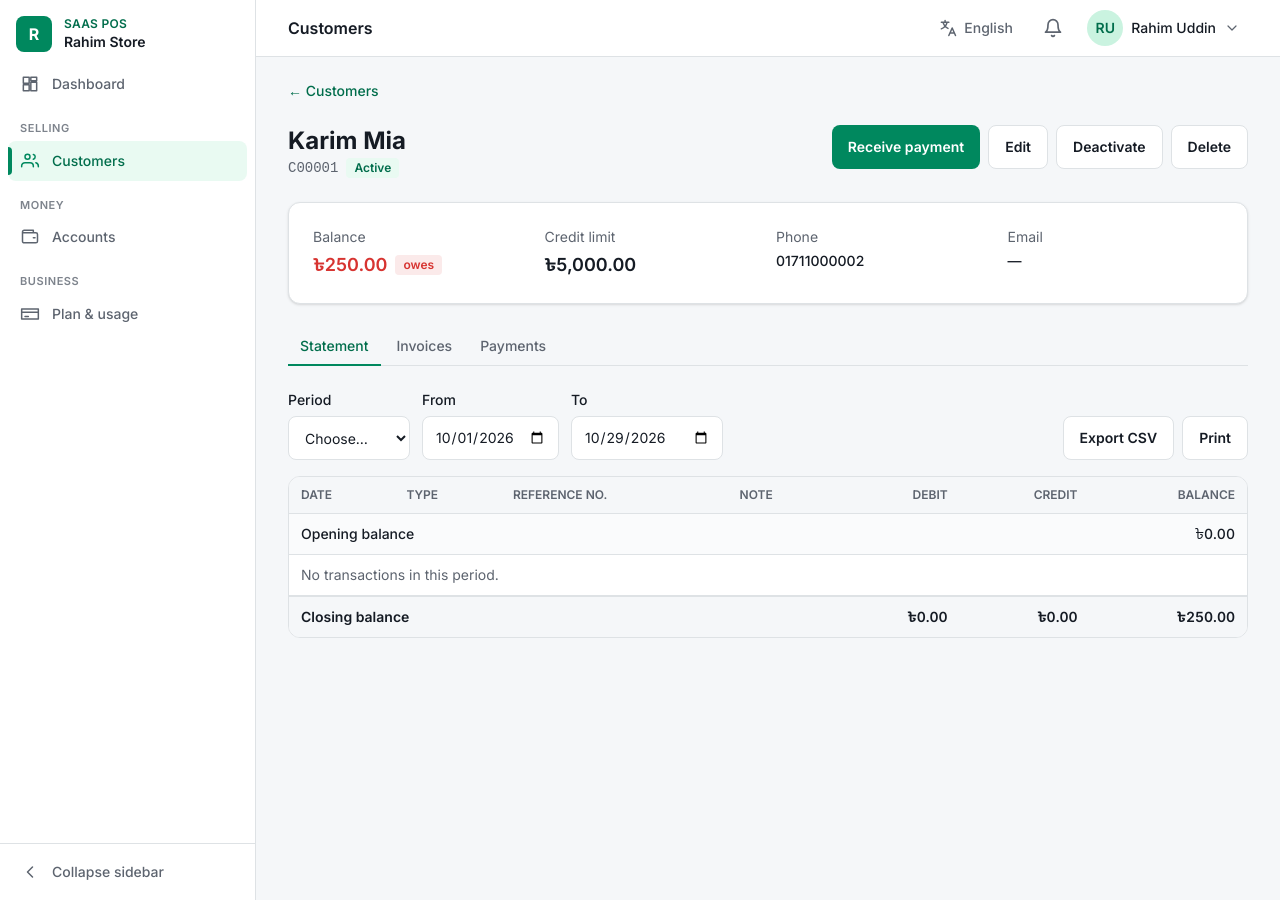
Test case: customers › receives a payment through /collections
The width and height of the screenshot is (1280, 900).
Click the button "Receive payment" at (906, 147), box [832,125,980,169]
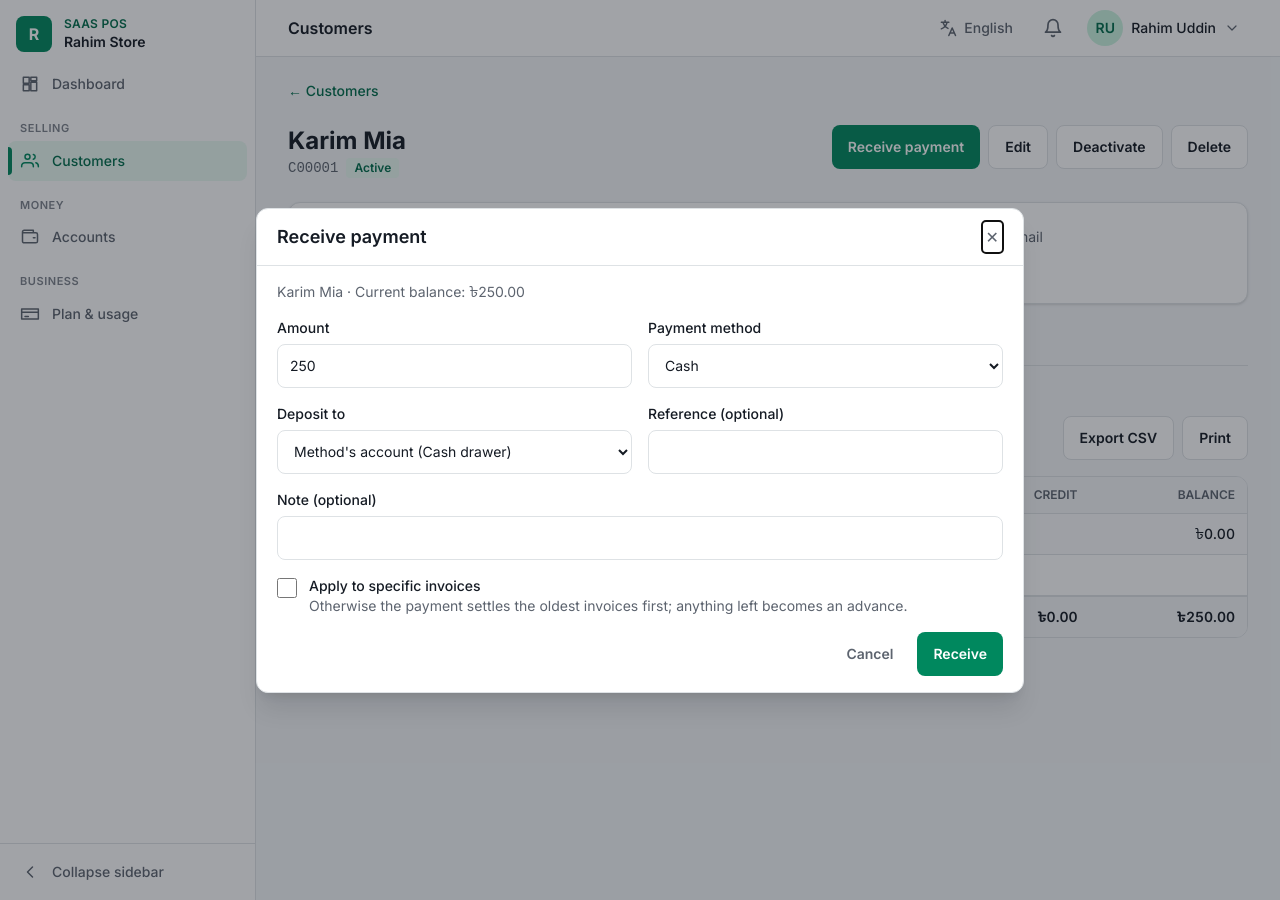
Expected: the field labelled "Amount" holds "250", [277,344,632,388]
Click the button "Receive" at (960, 654), box [917,632,1003,676]
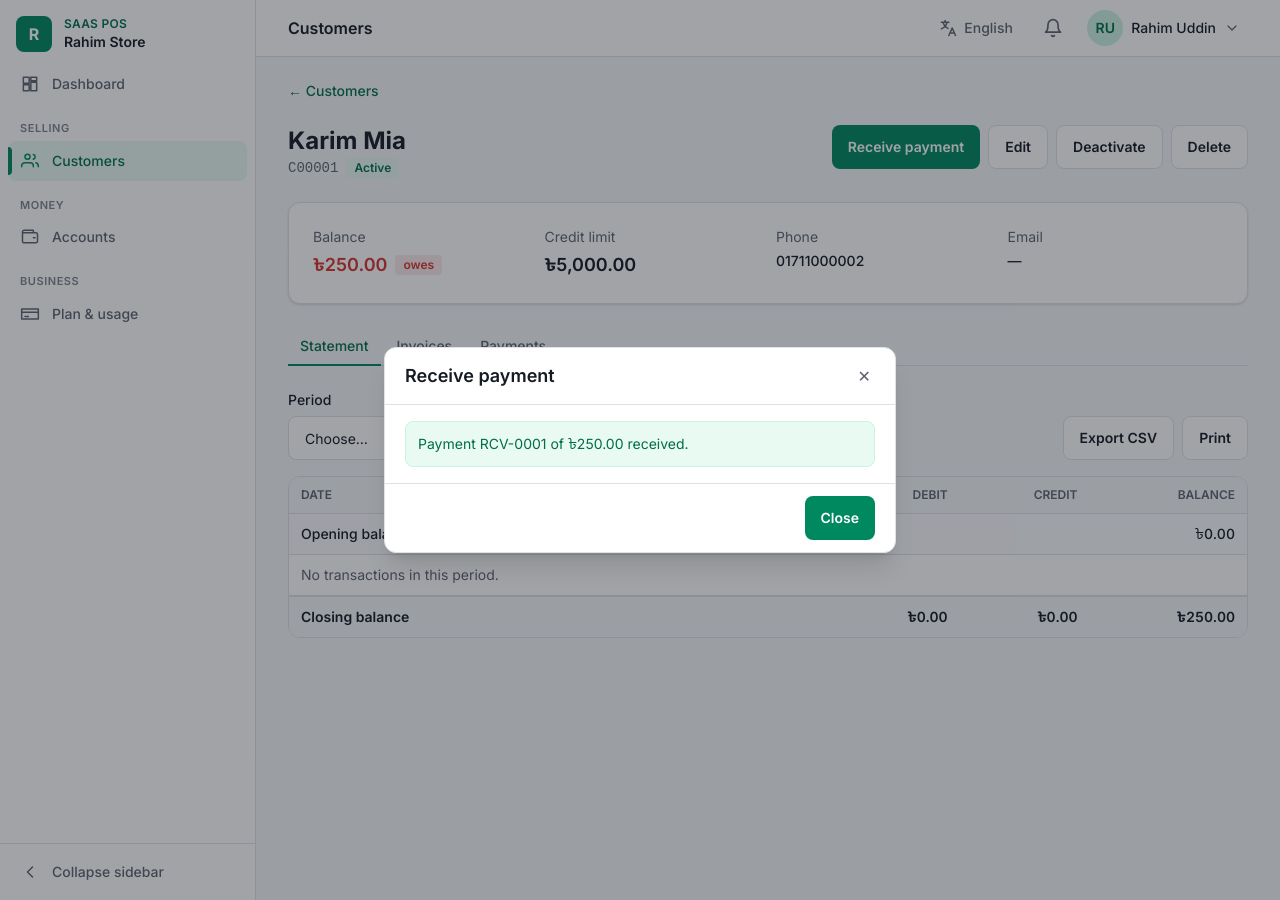
Expected: the text "Payment RCV-0001 of ৳250.00 received." is shown, [405,421,875,467]
